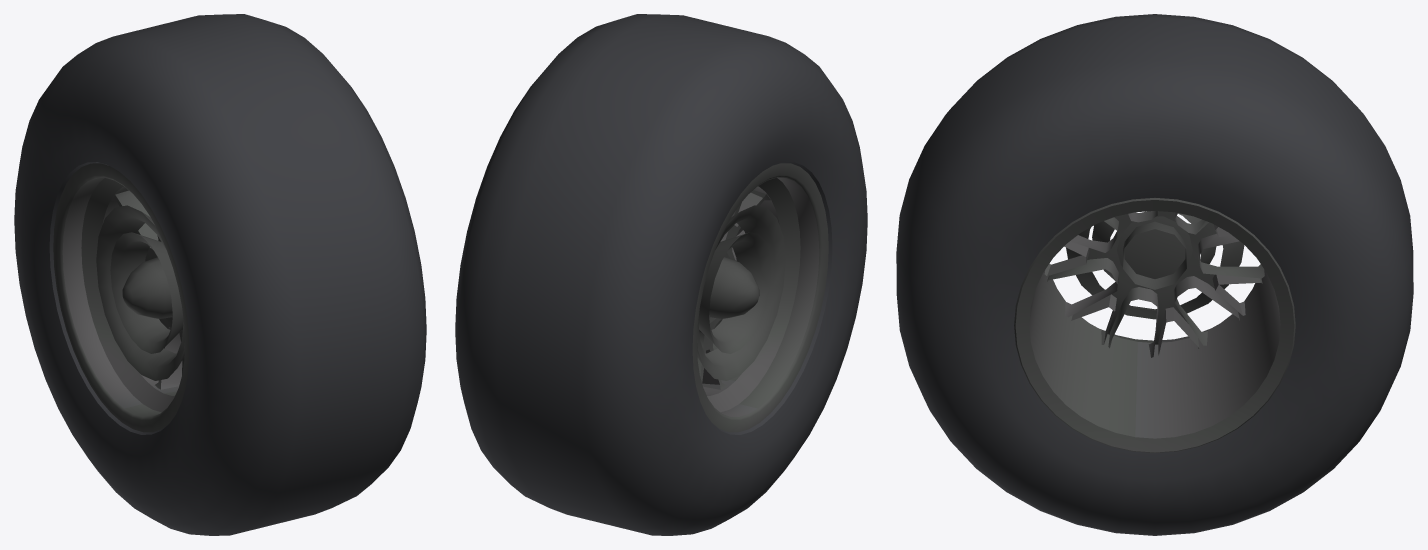
Rendered from RightFrontWheel.obj.
3 renders of one model, left to right at view 1: azimuth 30°, elevation 25°; view 2: azimuth 150°, elevation 25°; view 3: azimuth 270°, elevation 25°, orthographic.
Parts seen in each view (by area): view 1: object__44, object__43, object__16; view 2: object__44, object__43, object__16; view 3: object__43, object__44, object__16.
Boxes of the visible parts, bbox=[...] form: object__44: bbox=[51, 14, 423, 535]; object__43: bbox=[14, 65, 426, 524]; object__16: bbox=[53, 163, 189, 432]; object__44: bbox=[458, 14, 835, 535]; object__43: bbox=[455, 65, 867, 524]; object__16: bbox=[692, 163, 828, 432]; object__43: bbox=[915, 100, 1394, 534]; object__44: bbox=[896, 14, 1413, 535]; object__16: bbox=[1014, 198, 1295, 452].
Size of the model in its own units: 0.3125 by 0.6512 by 0.6512.
